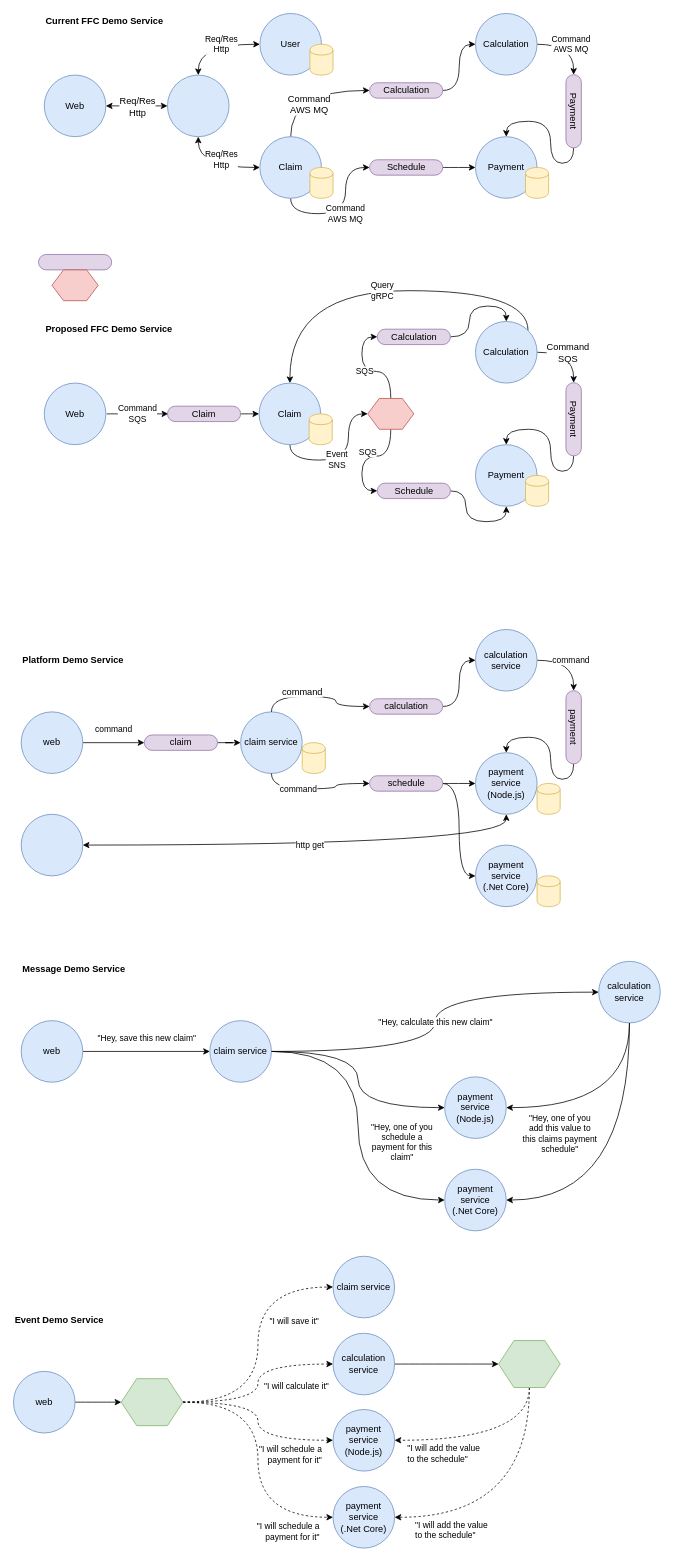
Image size: 674x1562. Some labels were removed from this diagram. Each missing label, with the box of its shape:
"A calculation has completed!": (498, 1340, 560, 1388)
"A new claim has arrived!": (121, 1378, 183, 1426)
API Gateway: (167, 74, 229, 137)
New Claim: (367, 398, 414, 429)
payment web: (20, 814, 83, 876)
Queue: (38, 254, 112, 270)
Topic: (51, 269, 98, 301)
